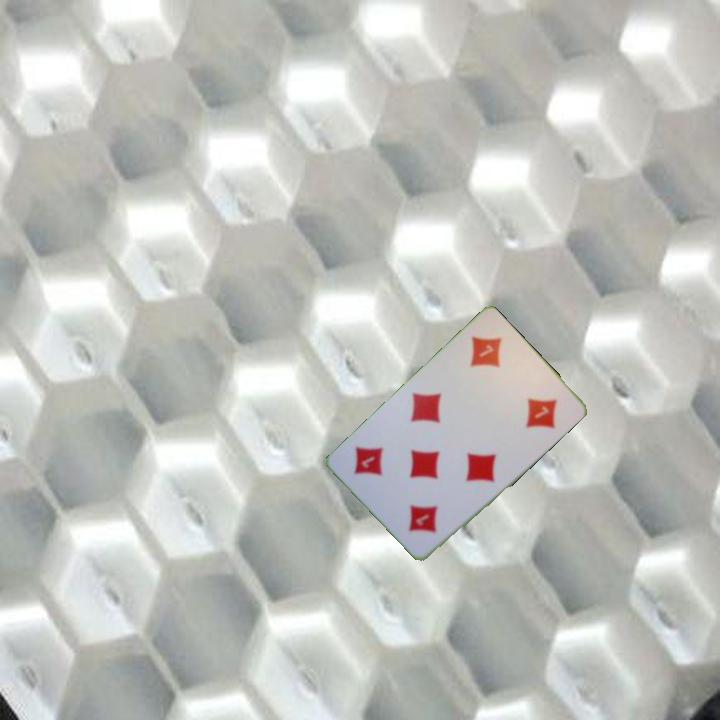d_7.png: (379, 467, 465, 553), (448, 317, 534, 403)
